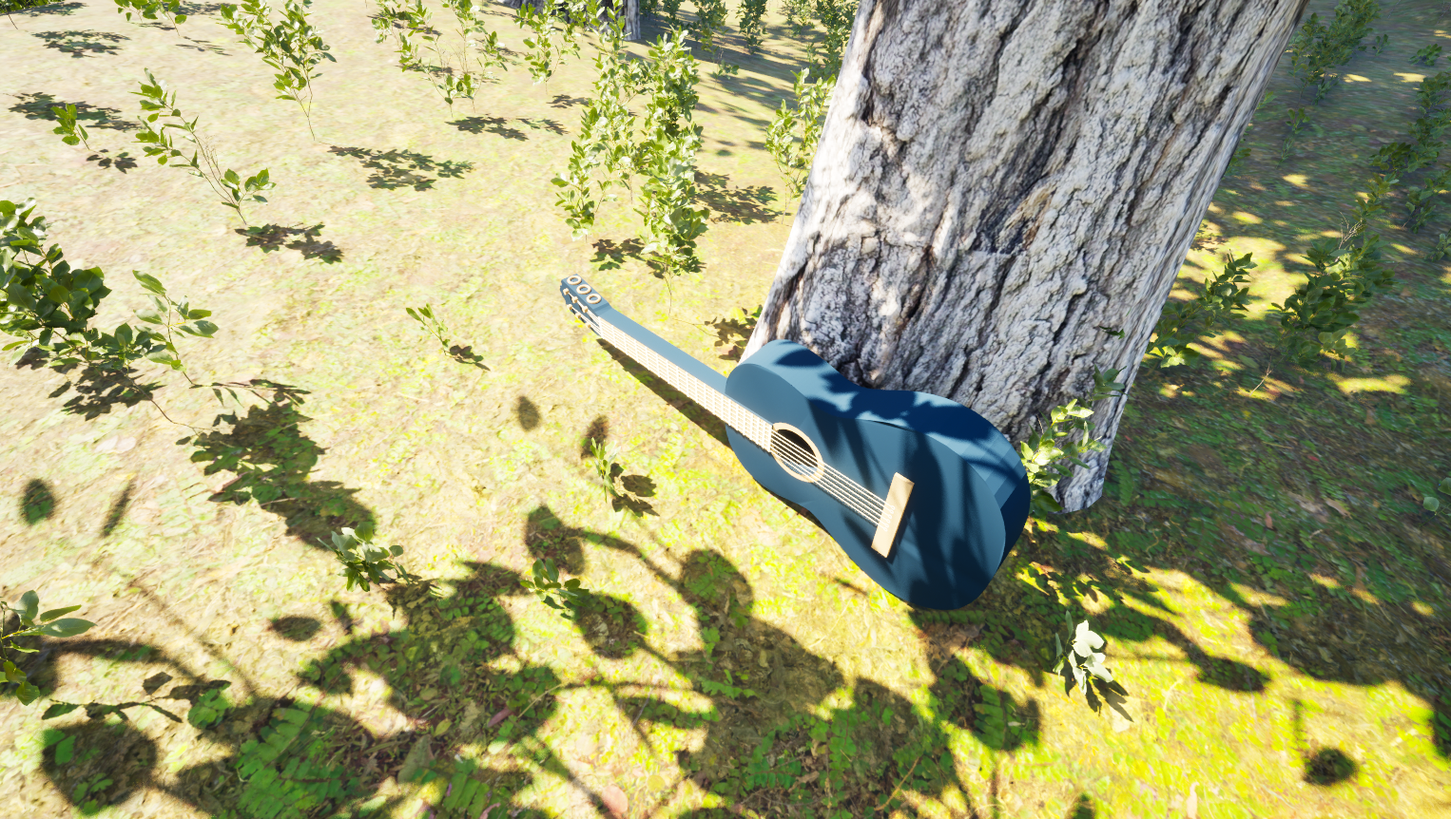Guitar: (530, 199, 1068, 642)
